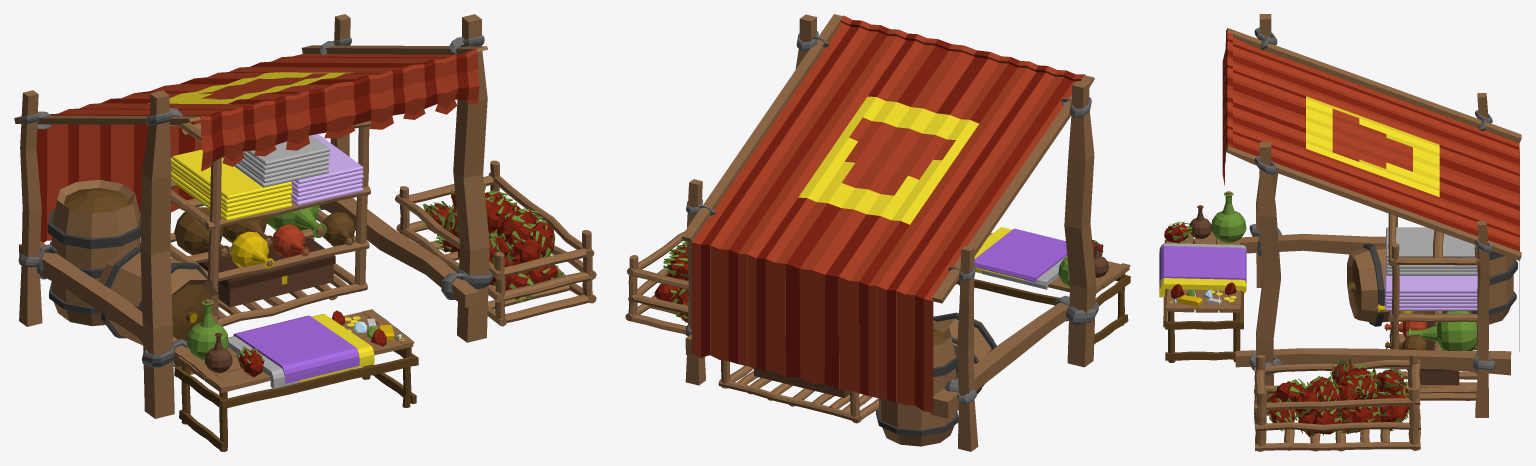
Rendered from Building_LV3_OutdoorShop_Red.fbx.
3 views of the same model, side by side, from view 1: azimuth 30°, elevation 25°; view 2: azimuth 150°, elevation 25°; view 3: azimuth 270°, elevation 25° (orthographic). The views are drawn at different scales.
Parts seen in each view (by area): view 1: OutdoorShop_Red; view 2: OutdoorShop_Red; view 3: OutdoorShop_Red.
Boxes of the visible parts, x1=… form: OutdoorShop_Red: x1=14, y1=14, x2=596, y2=451; OutdoorShop_Red: x1=625, y1=14, x2=1130, y2=451; OutdoorShop_Red: x1=1159, y1=14, x2=1521, y2=451.
Bounding box in the file's own units: 376 × 262 × 313.
Materials: 13 (13 with a texture image).
